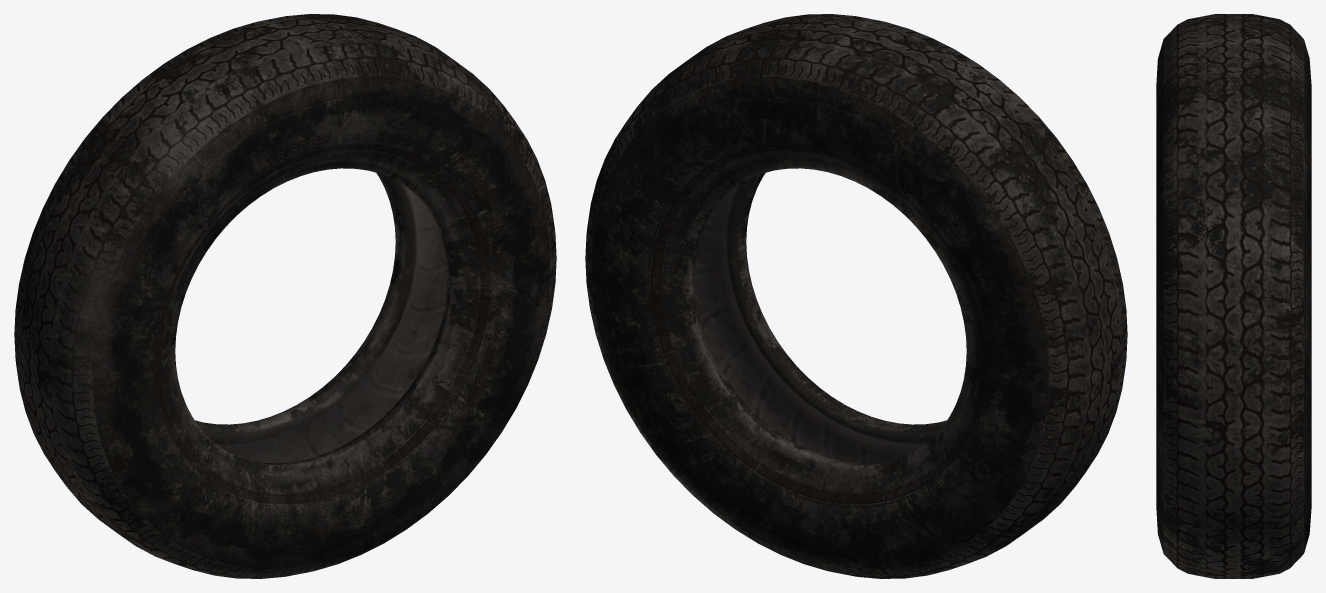
File: lf-tyre.glb
3 renders of one model, left to right at view 1: azimuth 30°, elevation 25°; view 2: azimuth 150°, elevation 25°; view 3: azimuth 270°, elevation 25°, orthographic. The views are drawn at different scales.
Parts seen in each view (by area): view 1: old_tyre; view 2: old_tyre; view 3: old_tyre.
Part boxes in pixels (x1,y1,x2,y2): old_tyre: (14,14,556,578); old_tyre: (585,14,1127,578); old_tyre: (1156,14,1311,578).
Bounding box in the file's own units: 0.6 × 0.6 × 0.165.
Materials: 1 (1 with a texture image).
